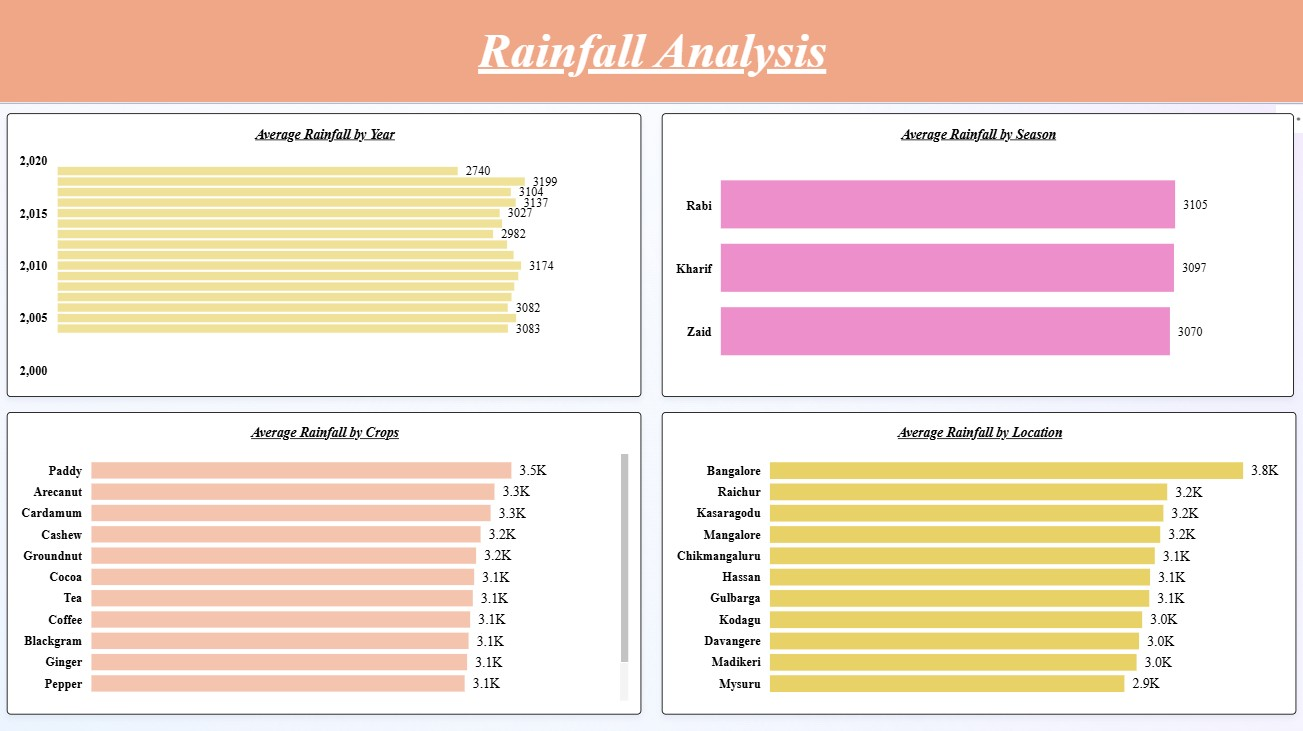

The page's visual inventory and layout, read from the dashboard file:
{"tool":"powerbi","page":{"name":"Rainfall Analysis","canvas":[1280,720],"ordinal":0},"visuals":[{"type":"shape","box":[0,0,1280.3,104.3],"z":0},{"type":"barChart","title":"Average Rainfall by Year","fields":{"Y":["Avg(AGRICULTURE.RAINFALL)"],"Category":["AGRICULTURE.YEAR"]},"box":[8.6,113.7,621.2,277.6],"z":1},{"type":"barChart","title":"Average Rainfall by Season","fields":{"Y":["Avg(AGRICULTURE.RAINFALL)"],"Category":["AGRICULTURE.SEASON"]},"box":[649.3,113.7,618.8,277.6],"z":2},{"type":"barChart","title":"Average Rainfall by Crops","fields":{"Y":["Avg(AGRICULTURE.RAINFALL)"],"Category":["AGRICULTURE.CROPS"]},"box":[8.6,406,621.2,295.9],"z":3},{"type":"barChart","title":"Average Rainfall by Location","fields":{"Y":["Avg(AGRICULTURE.RAINFALL)"],"Category":["AGRICULTURE.LOCATION"]},"box":[649.3,406,621.2,295.9],"z":4}]}

Visuals, with their boxes in screenshot pixels (x1, y1, x2, y2), scaled from the page's 1280x720 canvas onto the 1303x731 screenshot:
shape: bbox(0, 0, 1302, 106)
"Average Rainfall by Year" barChart: bbox(9, 115, 641, 397)
"Average Rainfall by Season" barChart: bbox(661, 115, 1291, 397)
"Average Rainfall by Crops" barChart: bbox(9, 412, 641, 713)
"Average Rainfall by Location" barChart: bbox(661, 412, 1293, 713)
